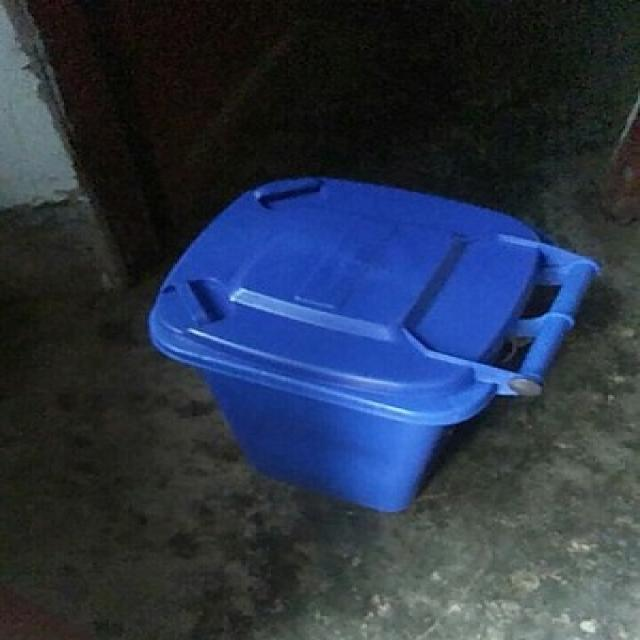ash bin: (147, 174, 593, 517)
